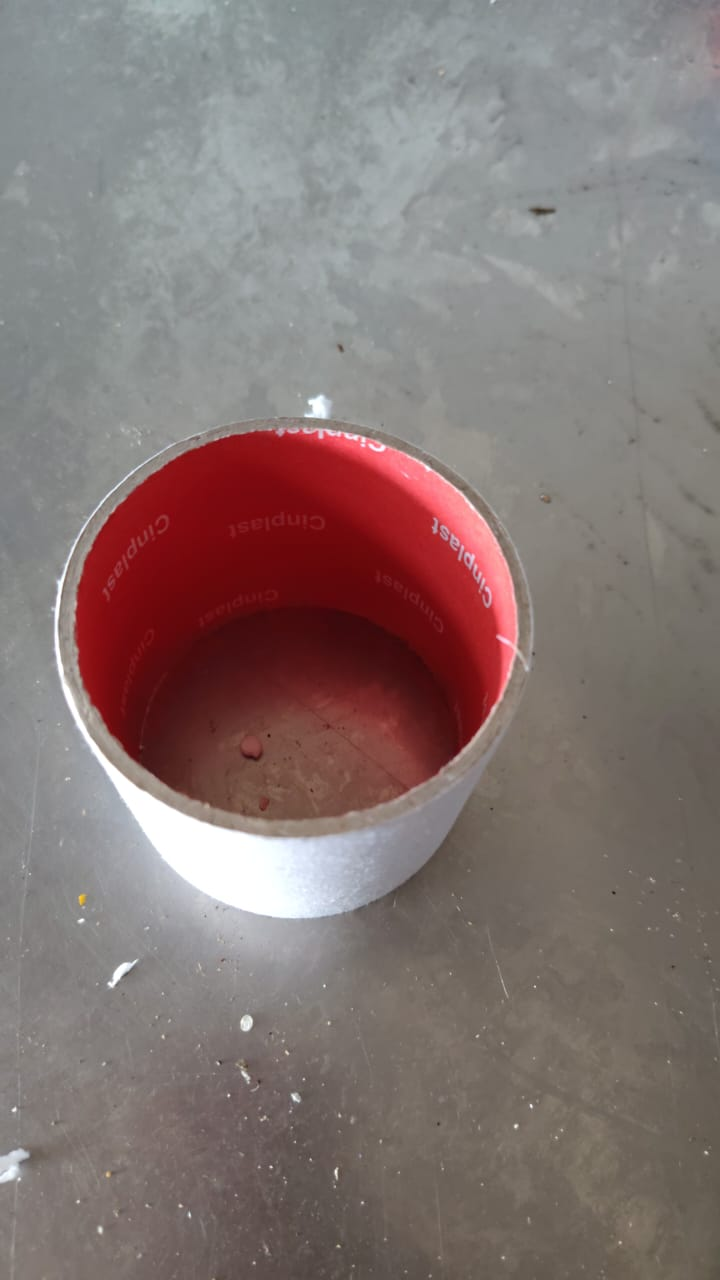Carton: (46, 414, 532, 923)
